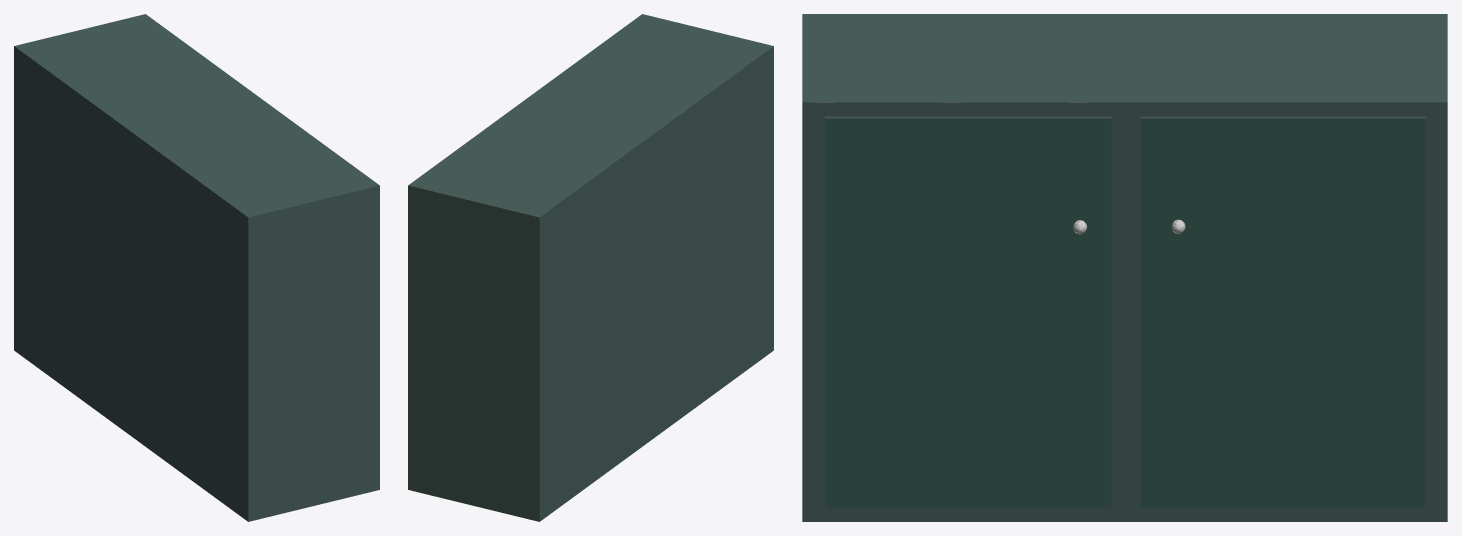
The model's file is MobileTvCucina.fbx.
The picture shows the model from 3 angles, left to right: view 1: azimuth 30°, elevation 25°; view 2: azimuth 150°, elevation 25°; view 3: azimuth 270°, elevation 25°; orthographic projection. The views are drawn at different scales.
Visible parts, largest first — view 1: mobile; view 2: mobile; view 3: mobile.
Boxes of the visible parts, <box> form: mobile: <box>14,14,379,521</box>; mobile: <box>408,14,773,521</box>; mobile: <box>802,14,1447,521</box>.
Size of the model in its own units: 53.92 by 110 by 153.
